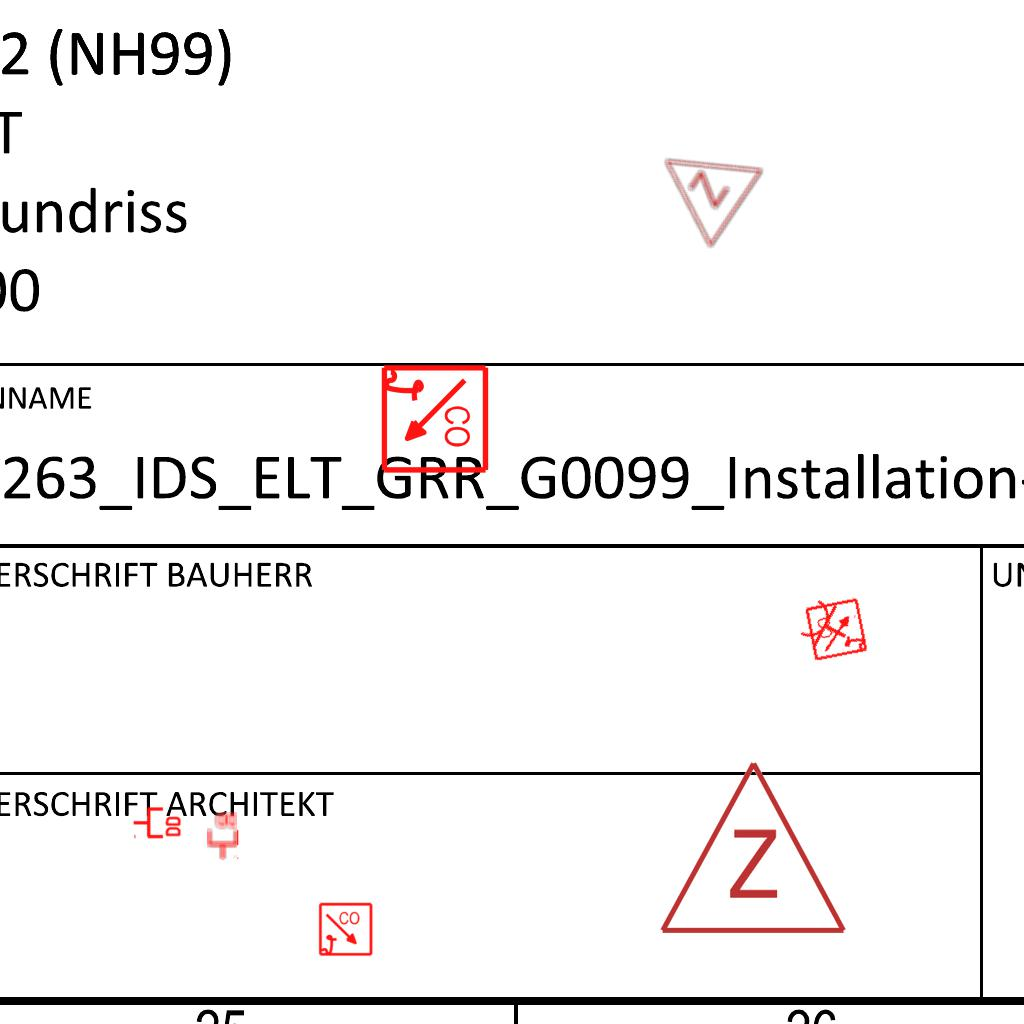Datenanschluss_zweifach: (132, 805, 183, 839), (205, 810, 239, 861)
ROA_Rauchmelder_optisch_mit_Signalgeber_(Sockelsirene): (377, 363, 490, 476), (804, 596, 870, 662), (318, 902, 374, 958)
Schukosteckdose_einfach: (796, 593, 859, 659)
Zimmersignalleuchte: (653, 748, 849, 948), (632, 117, 770, 255)
